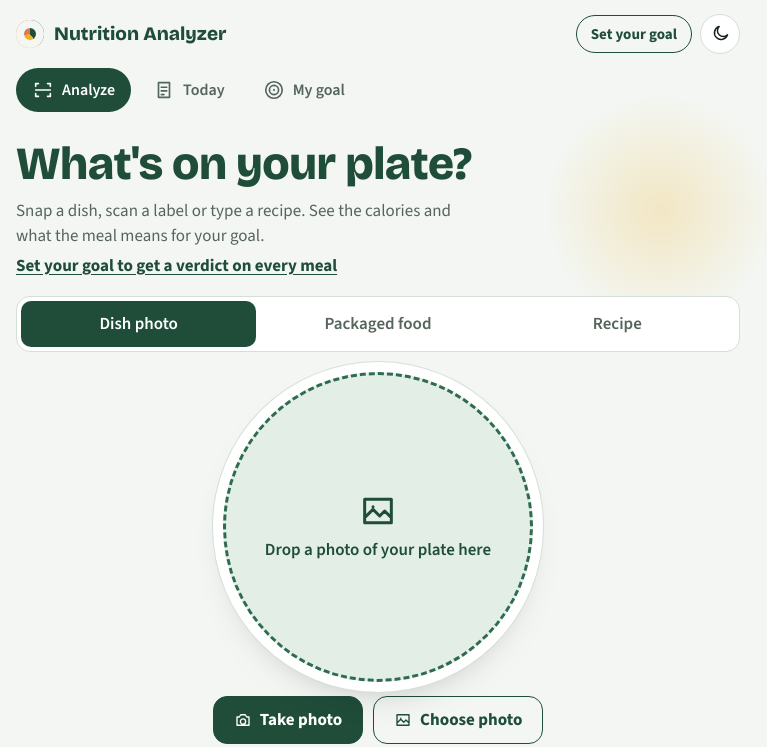
Nutrition Analyzer UI › explains an unknown ingredient instead of failing silently
Click the button "Recipe" at (617, 324), box [500,301,735,346]
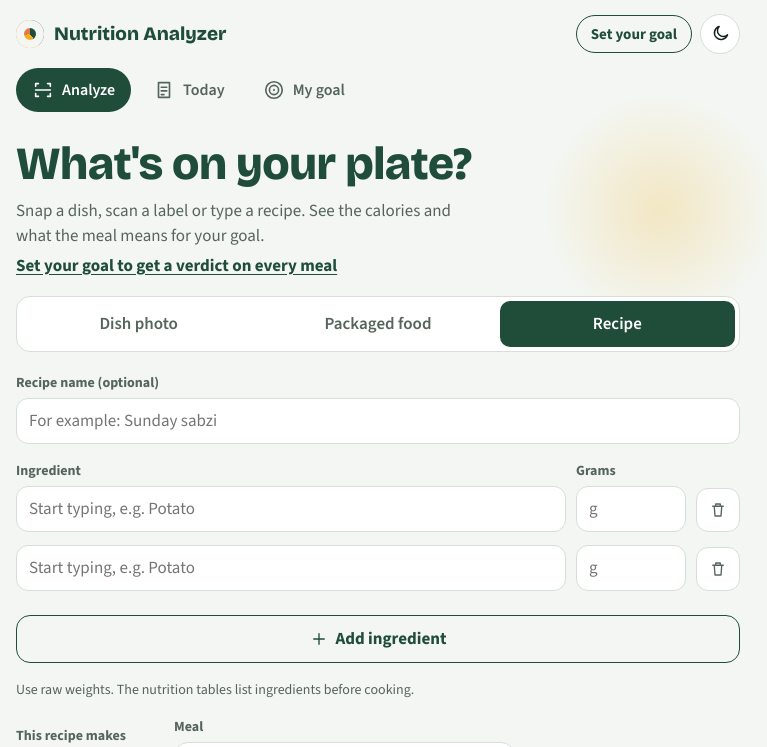
Type "Dragonfruit" into the field named "Ingredient 1" at (291, 508), box [16,486,566,532]
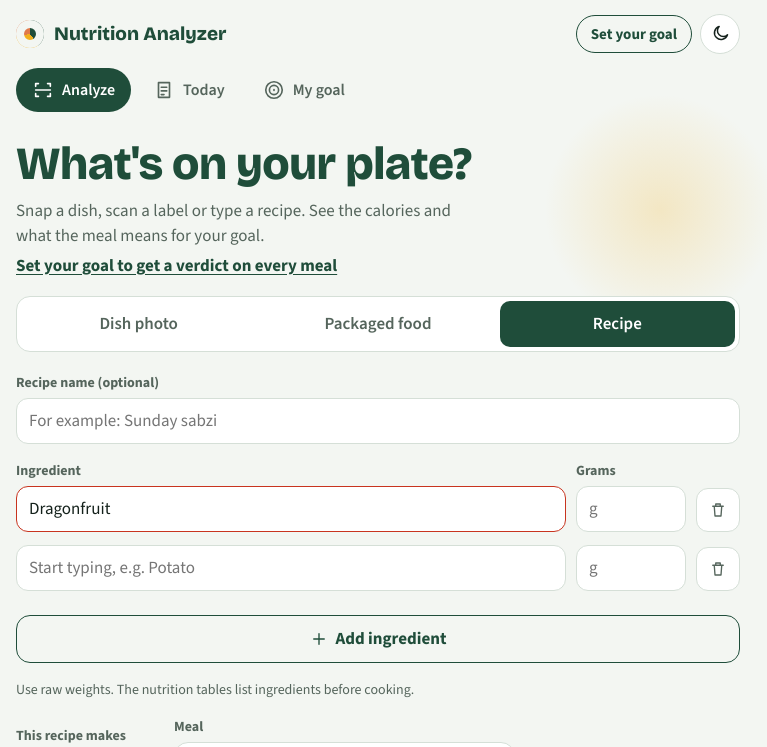
Type "100" into the number field named "Grams 1" at (631, 508), box [576,486,686,532]
(page scrolled)
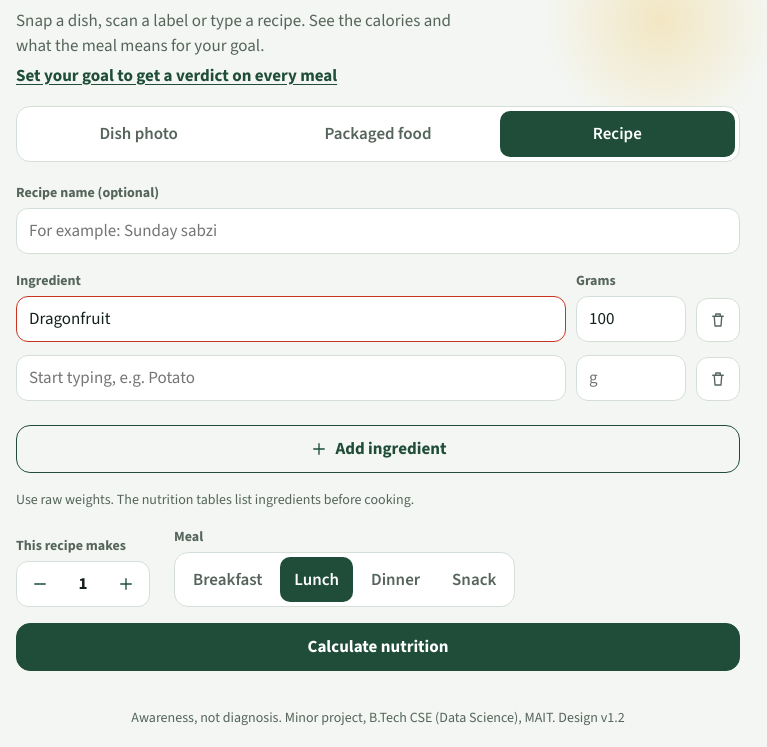
Click the button "Calculate nutrition" at (378, 647), box [16,623,740,671]
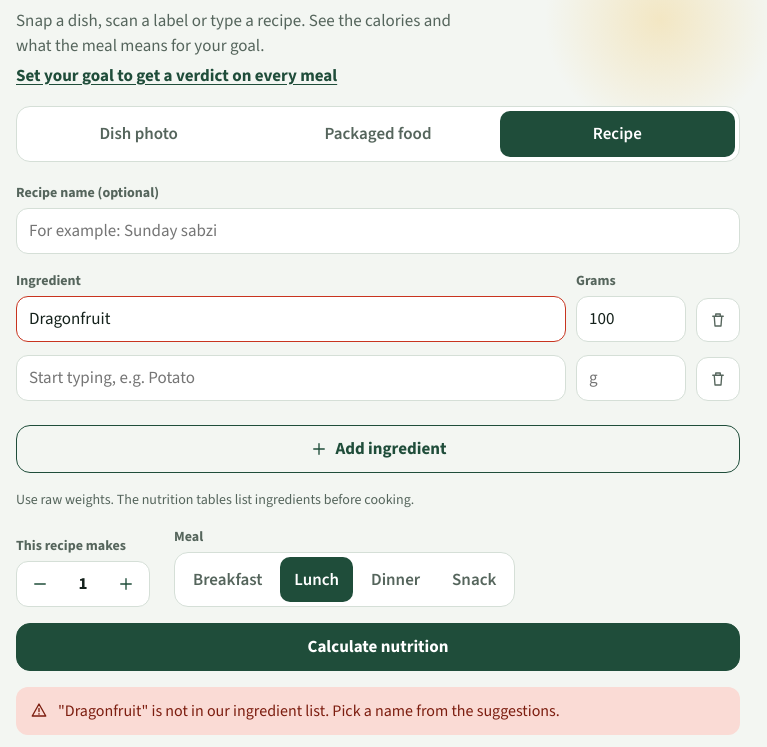
expect the text "not in our ingredient list" is shown: met, box [58,700,560,721]
